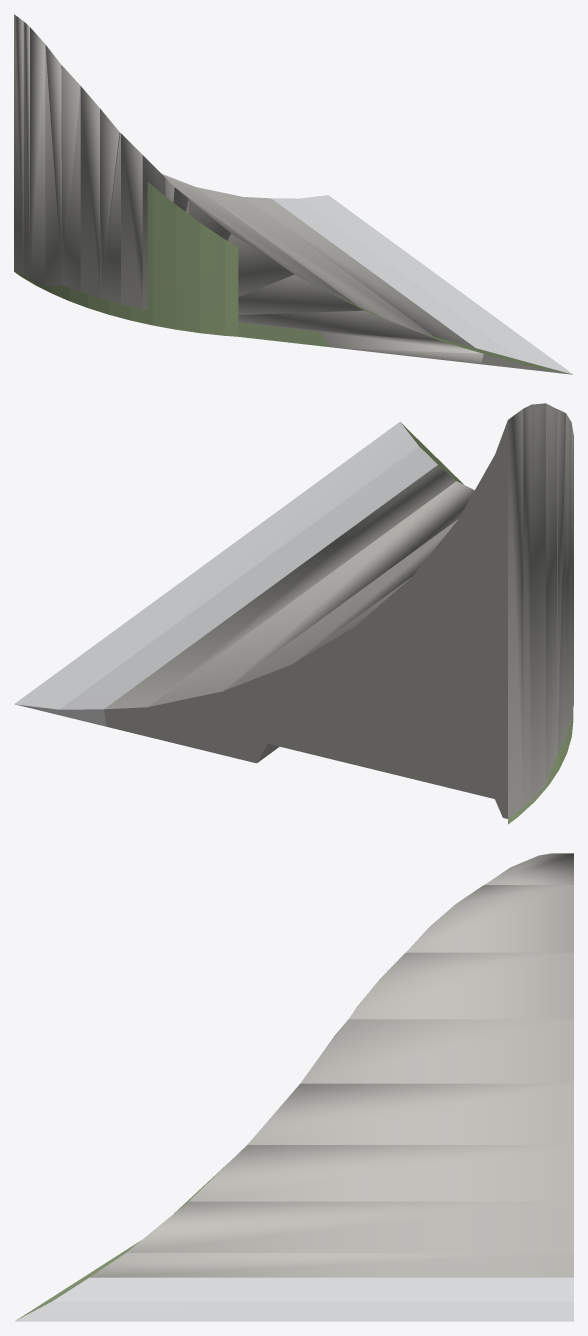
File: cross-ramp-150r.glb
3 views of the same model, one above another, from view 1: azimuth 30°, elevation 25°; view 2: azimuth 150°, elevation 25°; view 3: azimuth 270°, elevation 25° (orthographic). The views are drawn at different scales.
Parts seen in each view (by area): view 1: SK1231_Cross-Ramp_150R.001; view 2: SK1231_Cross-Ramp_150R.001; view 3: SK1231_Cross-Ramp_150R.001.
Part boxes in pixels (x1,y1,x2,y2): SK1231_Cross-Ramp_150R.001: [14, 14, 573, 374]; SK1231_Cross-Ramp_150R.001: [14, 403, 573, 824]; SK1231_Cross-Ramp_150R.001: [14, 853, 573, 1321].
Size of the model in its own units: 1.85 by 1.45 by 2.5.
